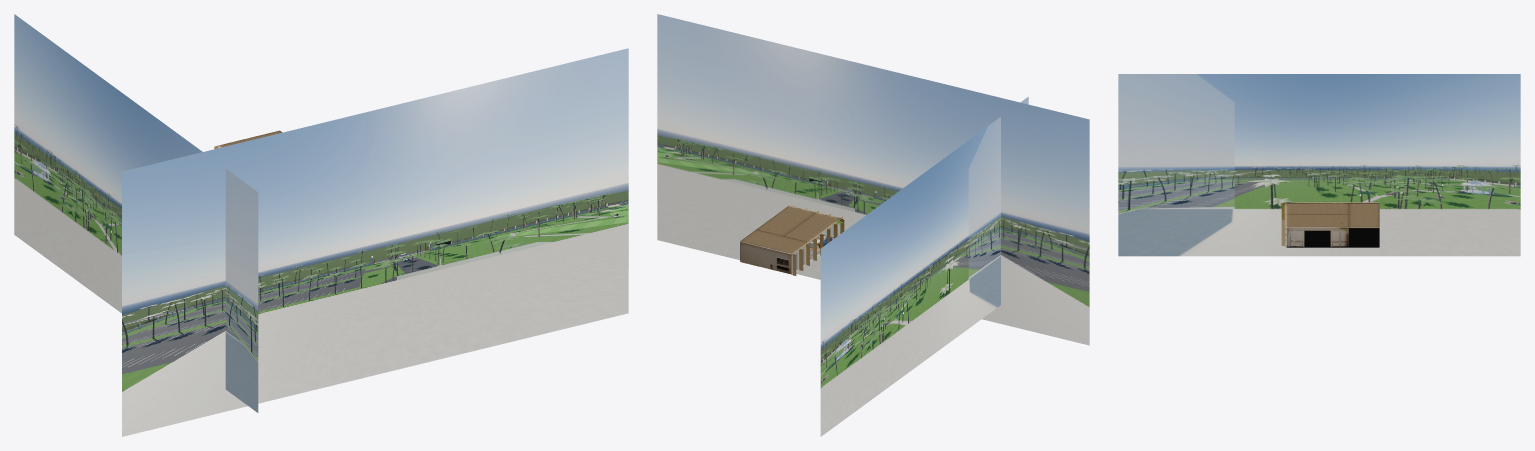
The model's file is int_eko_r6.glb.
The picture shows the model from 3 angles, left to right: view 1: azimuth 30°, elevation 25°; view 2: azimuth 150°, elevation 25°; view 3: azimuth 270°, elevation 25°; orthographic projection. The views are drawn at different scales.
Parts seen in each view (by area): view 1: VIEW_front, VIEW_side; view 2: VIEW_front, VIEW_side, ROOM; view 3: VIEW_side, ROOM.
Part boxes in pixels (x1=…): VIEW_front: x1=122, y1=48, x2=628, y2=436; VIEW_side: x1=14, y1=14, x2=258, y2=412; VIEW_front: x1=657, y1=14, x2=1089, y2=345; VIEW_side: x1=820, y1=96, x2=1028, y2=436; ROOM: x1=740, y1=205, x2=844, y2=275; VIEW_side: x1=1118, y1=74, x2=1520, y2=256; ROOM: x1=1281, y1=202, x2=1379, y2=247.
Size of the model in its own units: 72 by 36 by 60.
4 materials, 3 textured.
